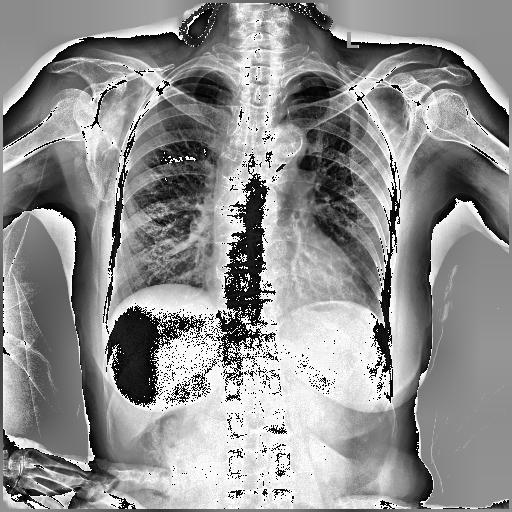0- Aortic enlargement: (262, 120, 307, 176), (262, 122, 308, 164), (260, 122, 304, 162)
3- Cardiomegaly: (206, 256, 366, 309), (208, 256, 368, 304), (204, 262, 366, 306)
